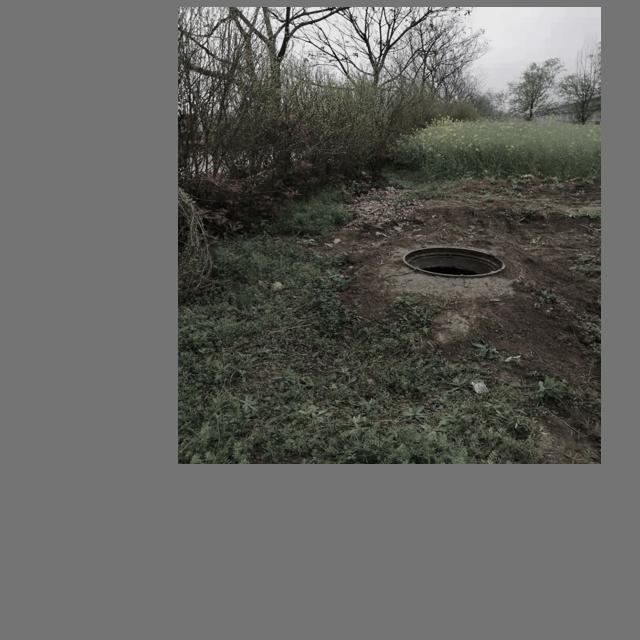lose: (391, 242, 511, 291)
